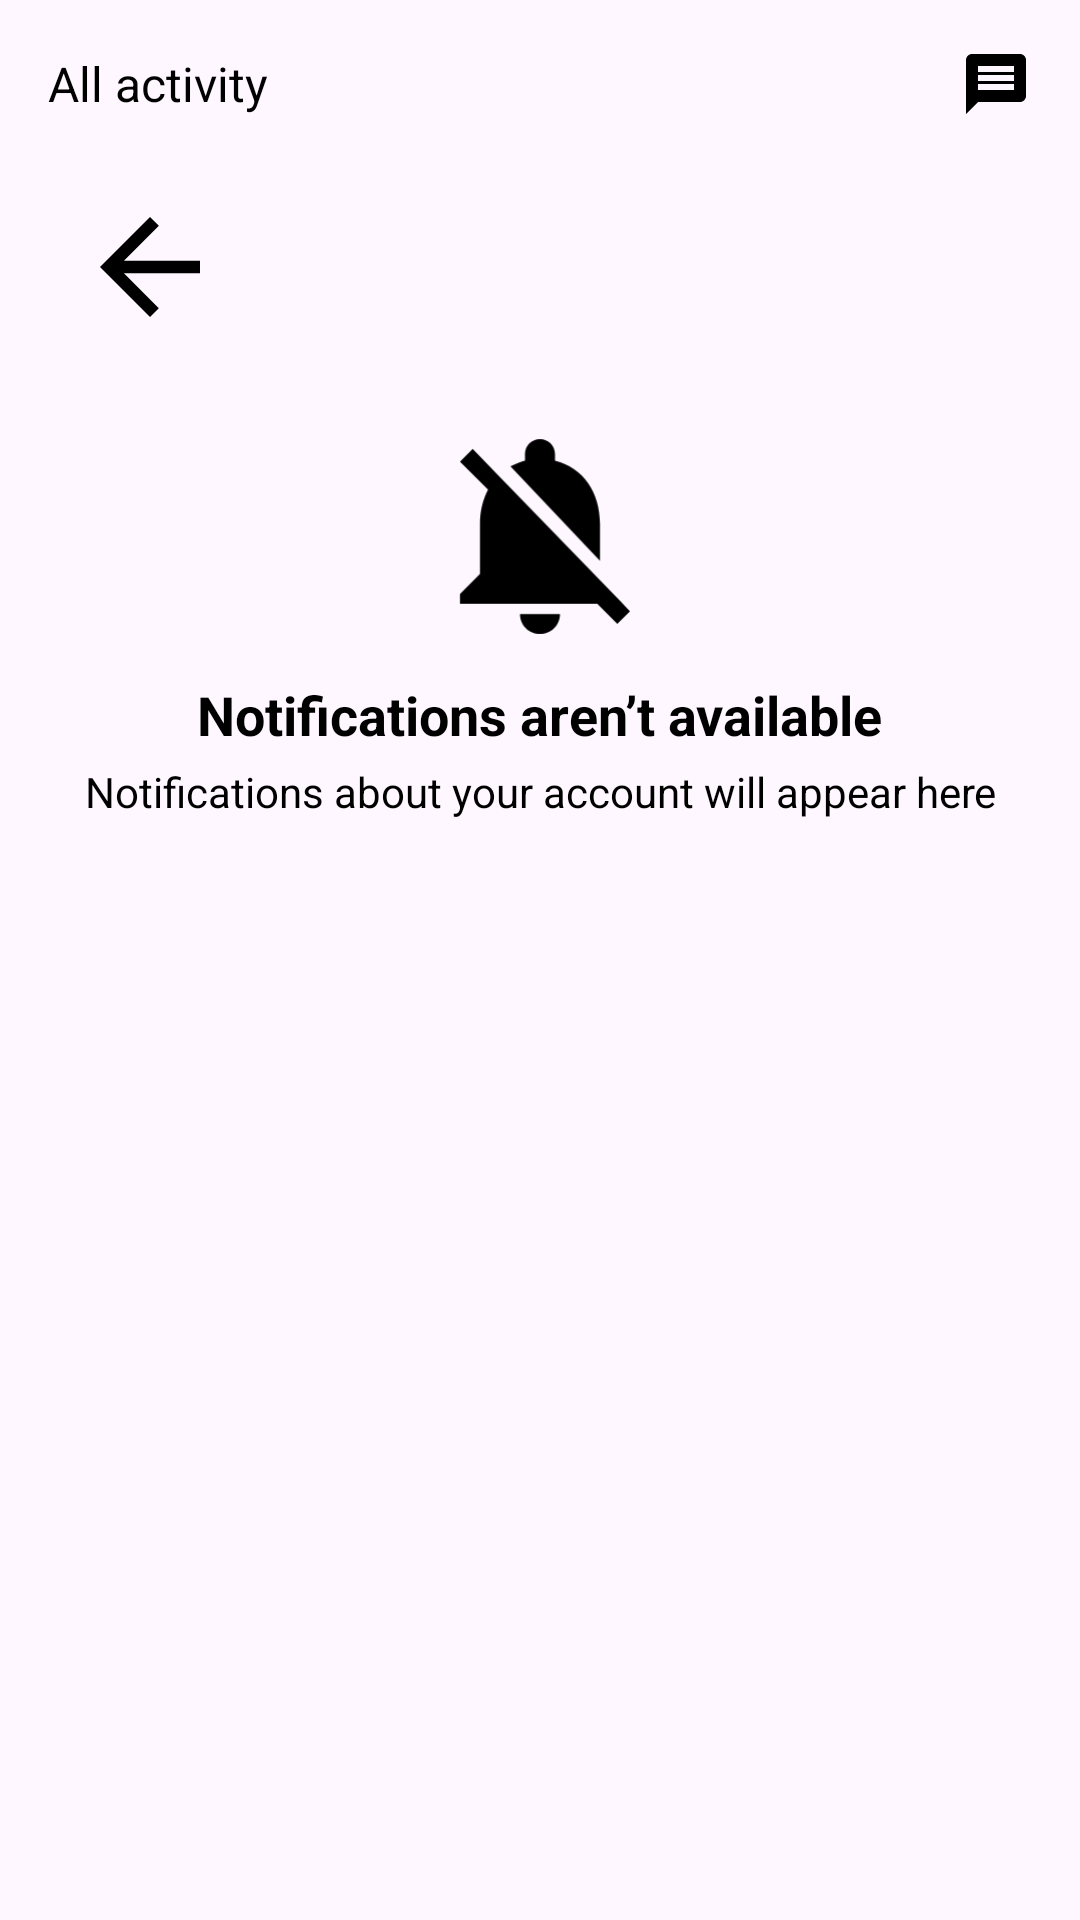

Icons on this 1080x1920 Android screen, each with the point to tap as (x,y):
back button: (150,267)
